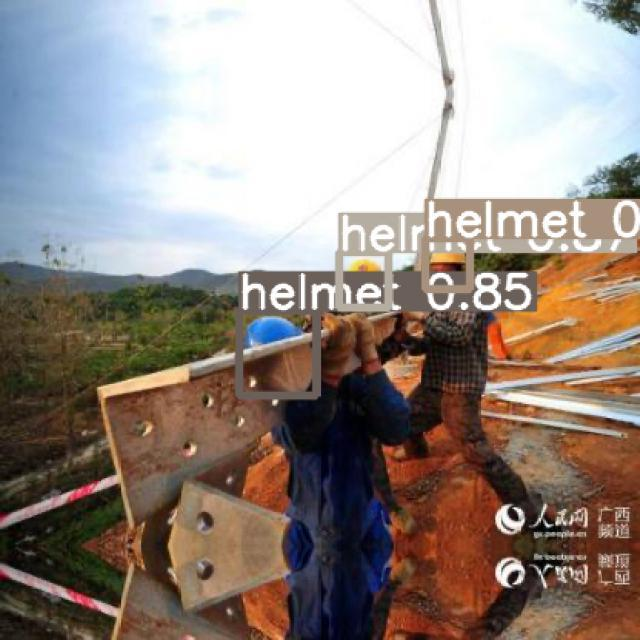Helmet: (245, 315, 303, 347)
